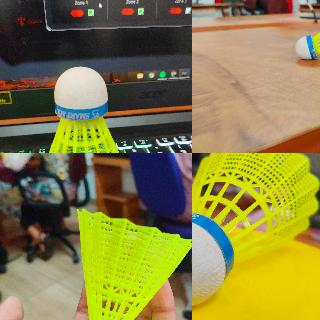shuttlecock: (192, 153, 319, 308), (77, 208, 191, 319), (34, 64, 137, 152), (295, 5, 319, 60)
